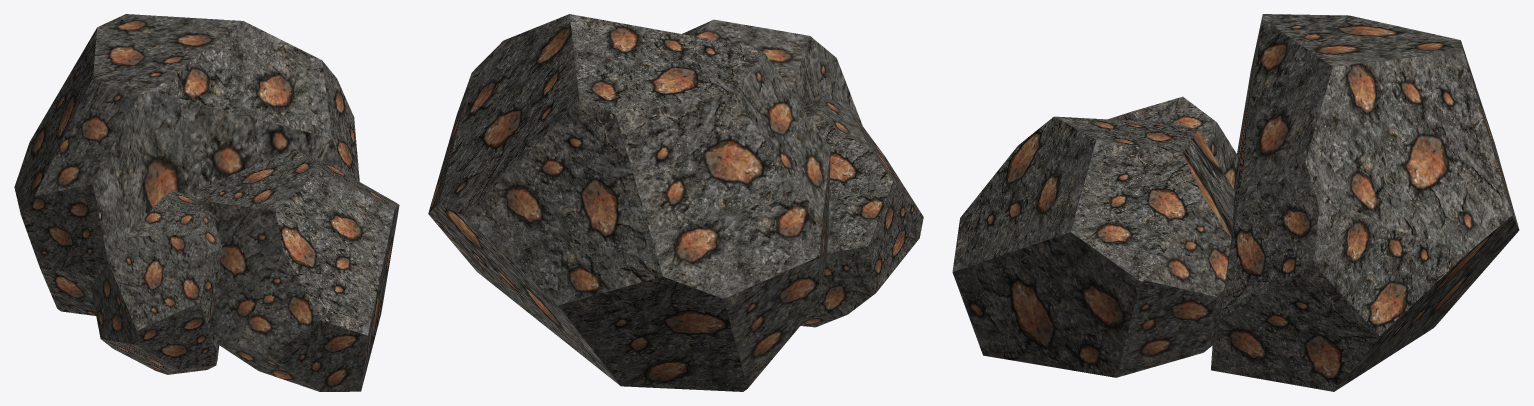
The model's file is iron_ore_1.fbx.
3 renders of one model, left to right at view 1: azimuth 30°, elevation 25°; view 2: azimuth 150°, elevation 25°; view 3: azimuth 270°, elevation 25°, orthographic. The views are drawn at different scales.
Parts seen in each view (by area): view 1: Rock_Type2_01_mesh; view 2: Rock_Type2_01_mesh; view 3: Rock_Type2_01_mesh.
Boxes of the visible parts, x1=… form: Rock_Type2_01_mesh: x1=14, y1=14, x2=399, y2=391; Rock_Type2_01_mesh: x1=428, y1=14, x2=923, y2=391; Rock_Type2_01_mesh: x1=952, y1=14, x2=1519, y2=391.
Bounding box in the file's own units: 1.59 × 1.29 × 2.05.
